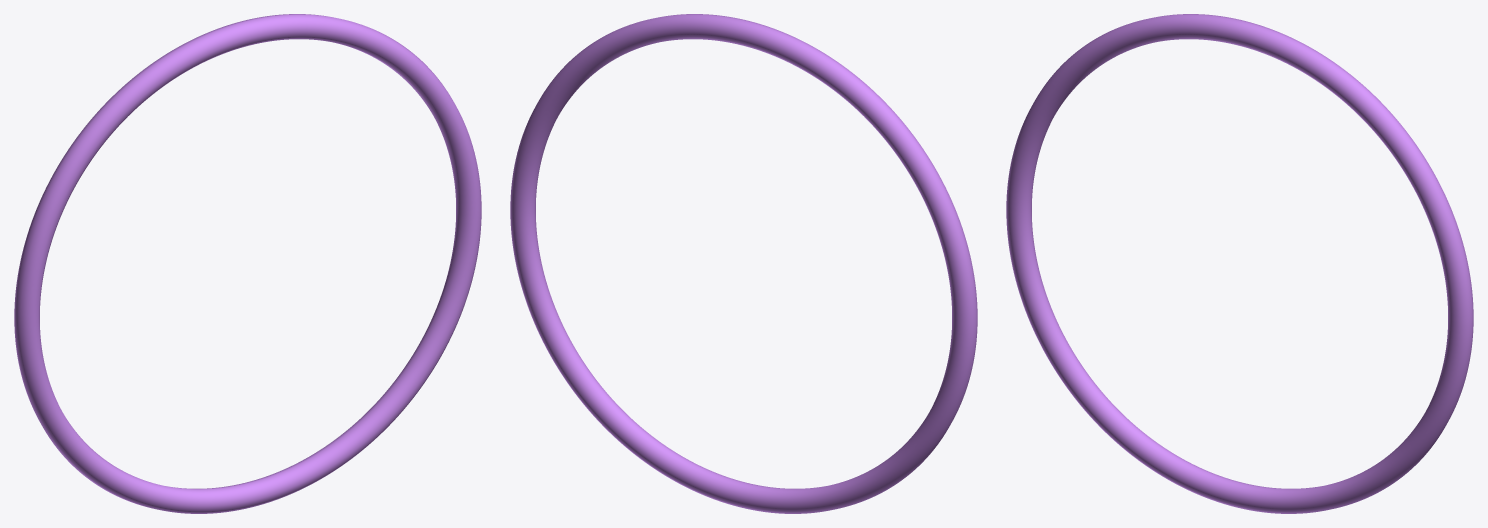
Rendered from halo-CfxIJyTh.glb.
3 views of the same model, side by side, from view 1: azimuth 30°, elevation 25°; view 2: azimuth 150°, elevation 25°; view 3: azimuth 330°, elevation 25° (orthographic).
Parts seen in each view (by area): view 1: R3D_halo_Body_0; view 2: R3D_halo_Body_0; view 3: R3D_halo_Body_0.
Part boxes in pixels (x1,y1,x2,y2): R3D_halo_Body_0: (14, 14, 481, 513); R3D_halo_Body_0: (510, 14, 977, 513); R3D_halo_Body_0: (1006, 14, 1473, 513).
Bounding box in the file's own units: 3.78 × 3.78 × 0.18.
